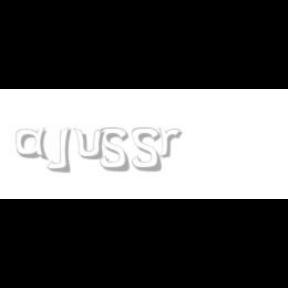J: (46, 128, 72, 172)
S: (100, 128, 130, 172), (132, 128, 162, 172)
a: (16, 128, 52, 160)
r: (158, 128, 186, 158)
u: (74, 128, 108, 160)
